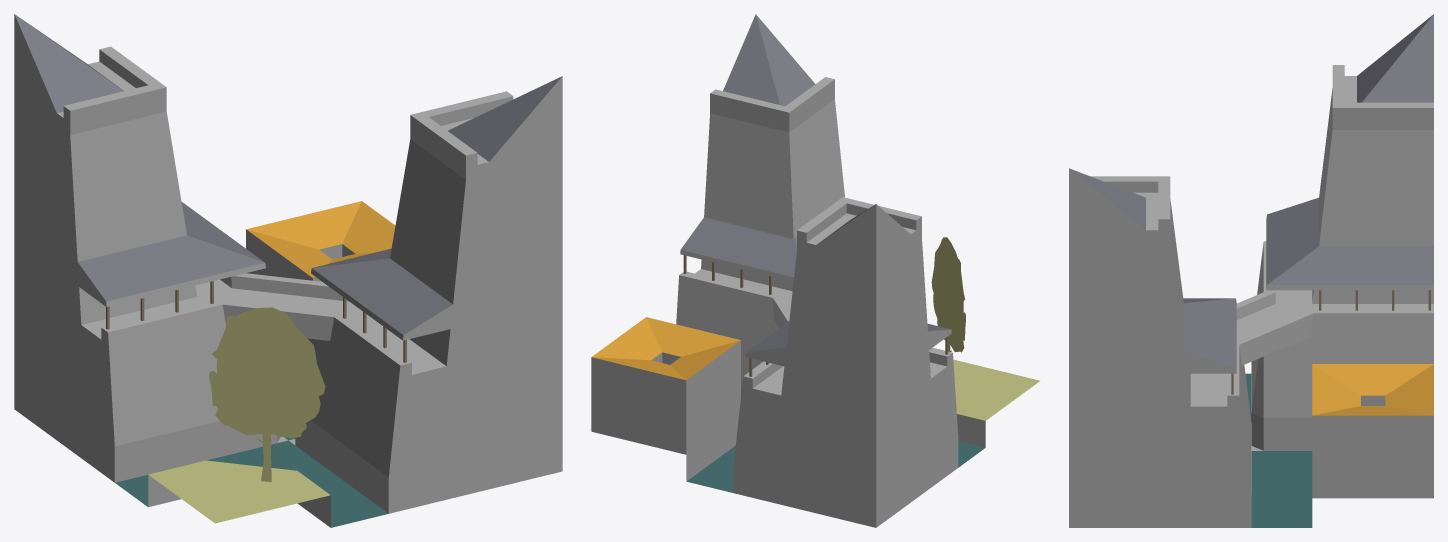
3 renders of one model, left to right at view 1: azimuth 30°, elevation 25°; view 2: azimuth 150°, elevation 25°; view 3: azimuth 270°, elevation 25°, orthographic. The views are drawn at different scales.
Parts seen in each view (by area): view 1: c2cw; view 2: c2cw; view 3: c2cw.
Boxes of the visible parts, box(x1,y1,x2,y2) form: c2cw: box(14, 14, 562, 527); c2cw: box(591, 14, 1040, 527); c2cw: box(1069, 14, 1433, 527).
Bounding box in the file's own units: 30 × 32.63 × 30.
